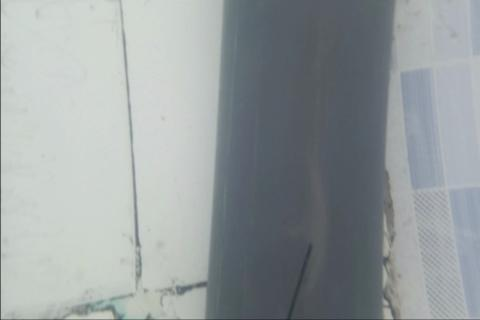keretakan: (285, 240, 312, 320)
